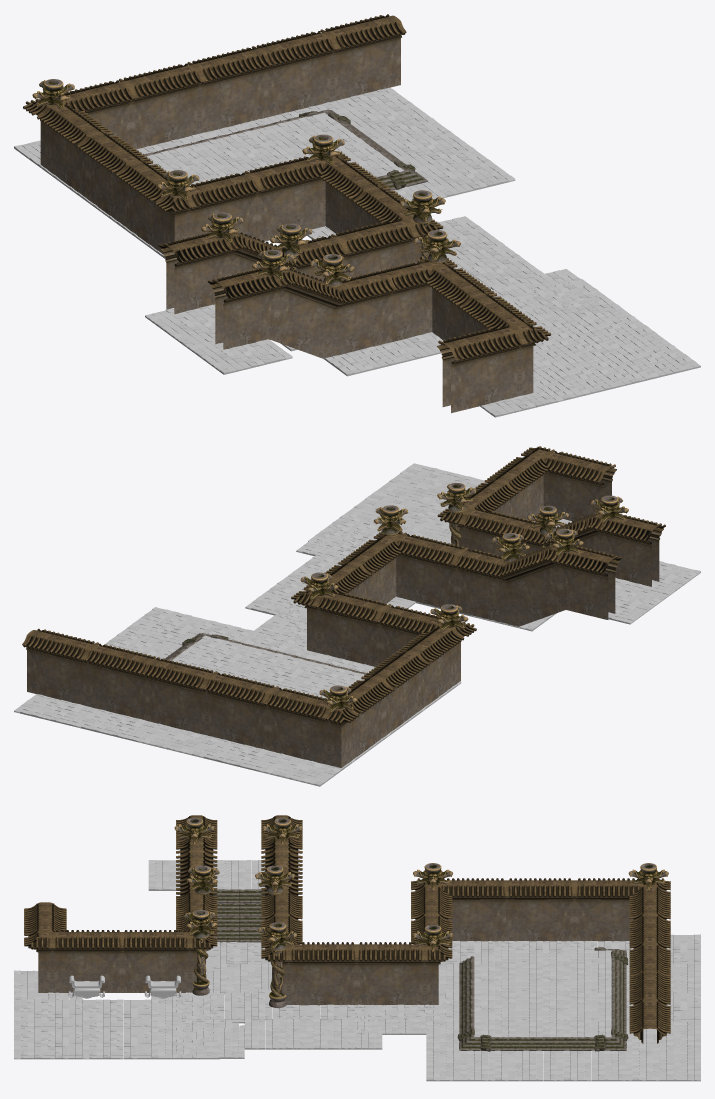
The model's file is SM_MERGED_SM_Wallset_677.FBX.
3 renders of one model, top to bottom at view 1: azimuth 30°, elevation 25°; view 2: azimuth 150°, elevation 25°; view 3: azimuth 270°, elevation 25°, orthographic. The views are drawn at different scales.
Visible parts, largest first — view 1: SM_MERGED_SM_Wallset_677; view 2: SM_MERGED_SM_Wallset_677; view 3: SM_MERGED_SM_Wallset_677.
Boxes of the visible parts, left/top/right/bottom form: SM_MERGED_SM_Wallset_677: left=14, top=14, right=700, bottom=417; SM_MERGED_SM_Wallset_677: left=14, top=446, right=700, bottom=786; SM_MERGED_SM_Wallset_677: left=14, top=815, right=700, bottom=1081.
Size of what is drawn, in the model's own units: 3368 by 5000 by 815.
